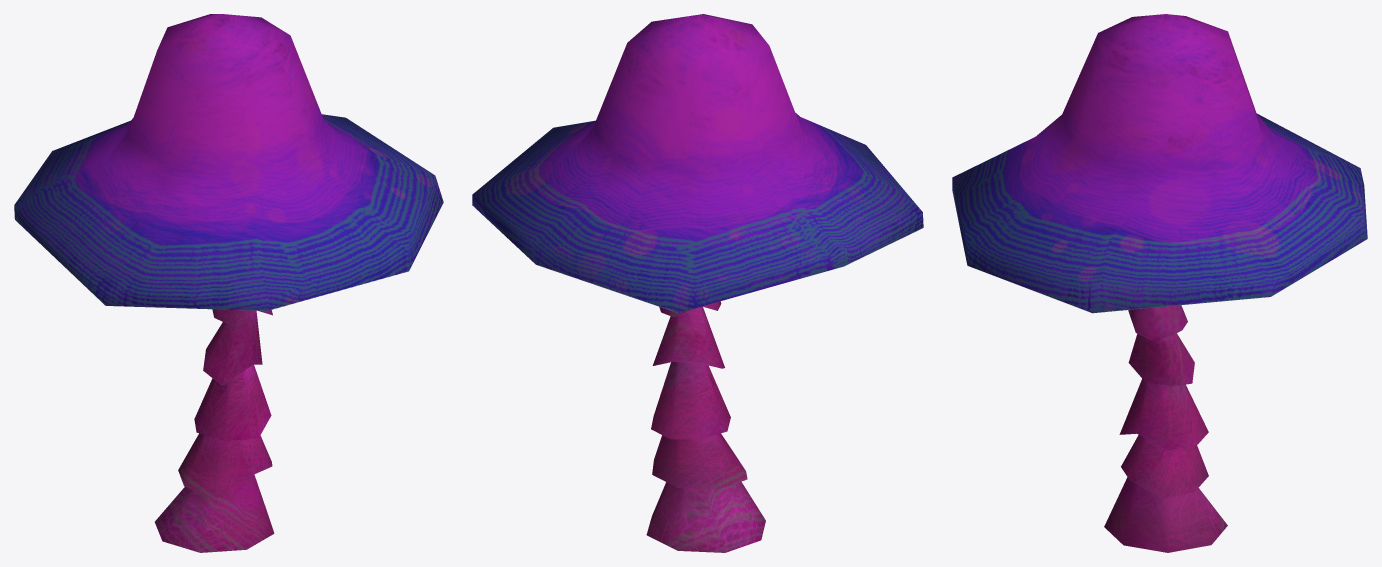
Rendered from hongo liso grande.fbx.
3 renders of one model, left to right at view 1: azimuth 30°, elevation 25°; view 2: azimuth 150°, elevation 25°; view 3: azimuth 270°, elevation 25°, orthographic.
Visible parts, largest first — view 1: Cylinder.002; view 2: Cylinder.002; view 3: Cylinder.002.
Part boxes in pixels (x1,y1,x2,y2): Cylinder.002: (14, 14, 443, 552); Cylinder.002: (472, 14, 923, 552); Cylinder.002: (952, 14, 1367, 552).
Bounding box in the file's own units: 1092 × 1478 × 1078.
